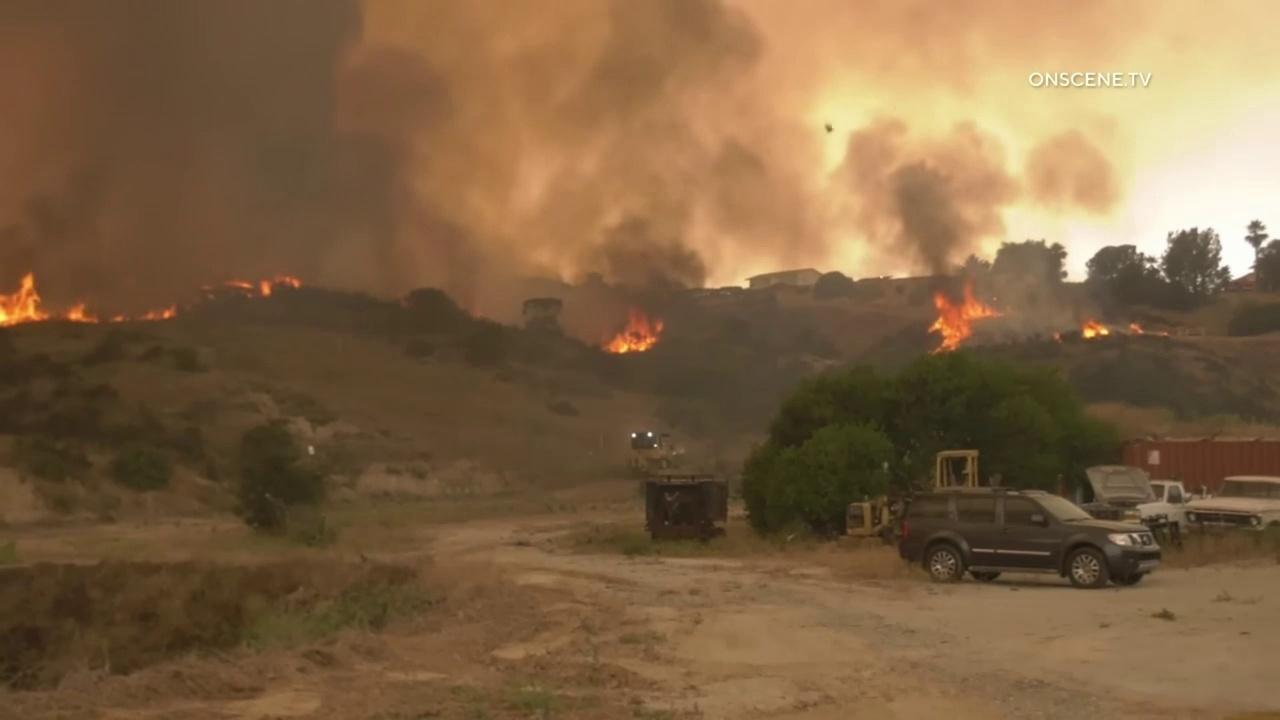fire: (925, 272, 1007, 355), (0, 270, 100, 328), (603, 302, 664, 354), (260, 274, 301, 298), (141, 303, 179, 322), (1082, 319, 1110, 340), (223, 281, 254, 290), (110, 312, 125, 324), (1129, 322, 1144, 334), (1053, 331, 1061, 341), (1163, 332, 1170, 336)
smoke: (0, 0, 1280, 354)
